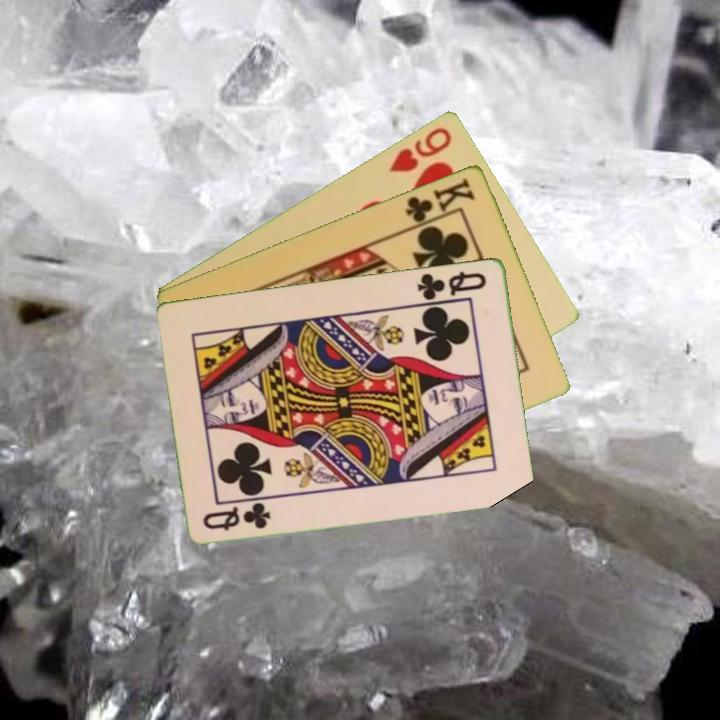9h: (386, 123, 455, 175)
Kc: (401, 173, 478, 231)
Qc: (414, 267, 490, 303), (199, 499, 274, 533)
